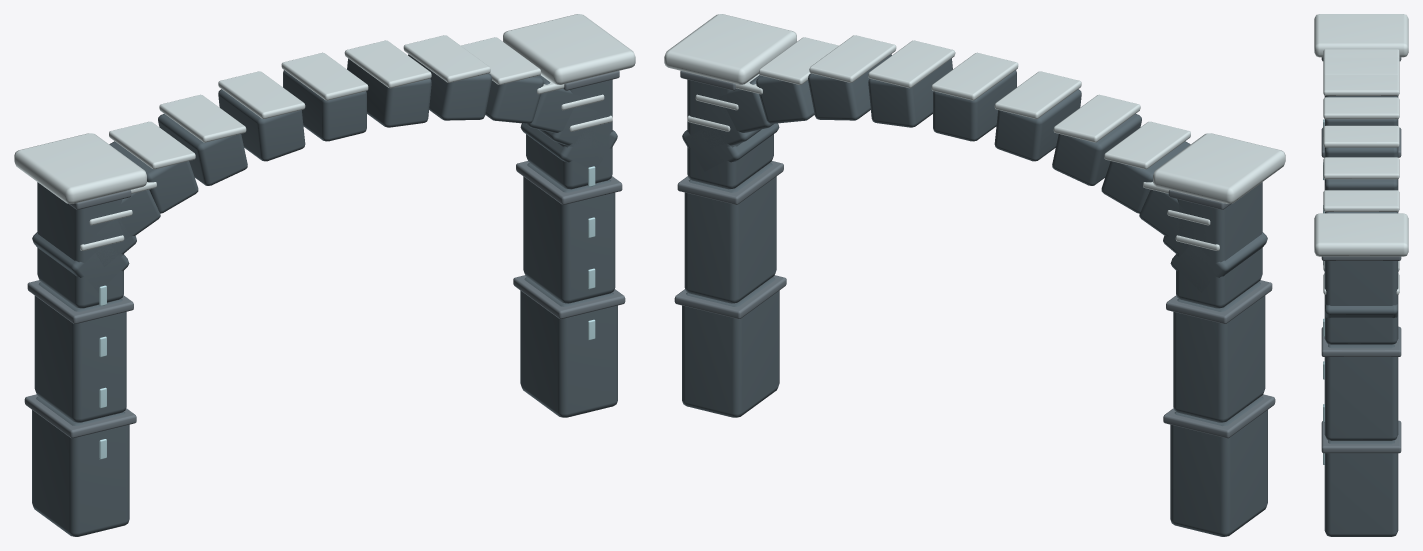
File: gate.glb
3 views of the same model, side by side, from view 1: azimuth 30°, elevation 25°; view 2: azimuth 150°, elevation 25°; view 3: azimuth 270°, elevation 25° (orthographic). The views are drawn at different scales.
Visible parts, largest first — view 1: Pillar, Pillar.003, Pillar.001, Pillar.004, Pillar_cap, Pillar.002, Pillar_cap.001, Pillar.005, Arch_stone.006, Arch_stone.007, Arch_stone.005, Arch_stone.008 (+20 smaller); view 2: Pillar, Pillar.003, Pillar.004, Pillar.001, Pillar.002, Pillar_cap, Pillar_cap.001, Pillar.005, Arch_stone.006, Arch_stone.007, Arch_stone.005, Arch_stone.008 (+19 smaller); view 3: Pillar.004, Pillar.003, Pillar.005, Pillar_cap.001, Pillar_cap, Arch_snow.004, Arch_snow.006, Arch_snow.005, Arch_snow.003, Arch_snow.007, Arch_snow.008, Band.003 (+10 smaller).
Boxes of the visible parts, x1,y1,x2,y2 form: Pillar: [32, 396, 129, 536]; Pillar.003: [520, 277, 617, 417]; Pillar.001: [34, 282, 126, 422]; Pillar.004: [523, 163, 615, 303]; Pillar_cap: [14, 133, 146, 203]; Pillar.002: [37, 182, 123, 308]; Pillar_cap.001: [503, 14, 635, 84]; Pillar.005: [526, 79, 612, 189]; Arch_stone.006: [283, 70, 366, 141]; Arch_stone.007: [218, 89, 305, 161]; Arch_stone.005: [347, 58, 431, 127]; Arch_stone.008: [158, 114, 247, 185]; Pillar: [1170, 396, 1267, 536]; Pillar.003: [682, 277, 779, 417]; Pillar.004: [684, 163, 776, 303]; Pillar.001: [1173, 282, 1265, 422]; Pillar.002: [1176, 182, 1262, 308]; Pillar_cap: [1153, 133, 1285, 203]; Pillar_cap.001: [664, 14, 796, 84]; Pillar.005: [687, 79, 773, 189]; Arch_stone.006: [933, 70, 1016, 141]; Arch_stone.007: [994, 89, 1081, 161]; Arch_stone.005: [868, 58, 952, 127]; Arch_stone.008: [1052, 114, 1141, 185]; Pillar.004: [1324, 344, 1398, 440]; Pillar.003: [1324, 440, 1398, 536]; Pillar.005: [1324, 261, 1398, 344]; Pillar_cap.001: [1314, 213, 1408, 256]; Pillar_cap: [1314, 14, 1408, 57]; Arch_snow.004: [1323, 157, 1399, 179]; Arch_snow.006: [1323, 97, 1399, 119]; Arch_snow.005: [1323, 125, 1399, 147]; Arch_snow.003: [1323, 190, 1399, 211]; Arch_snow.007: [1323, 74, 1399, 95]; Arch_snow.008: [1323, 57, 1399, 75]; Band.003: [1321, 420, 1401, 453].
Bounding box in the file's own units: 10.5 × 6.78 × 1.8.
